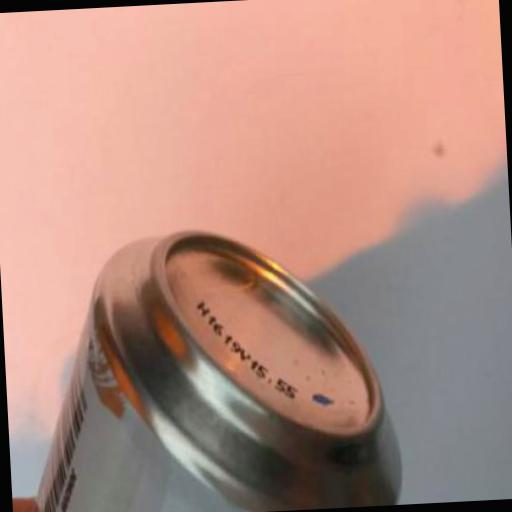metal: (15, 218, 402, 512)
